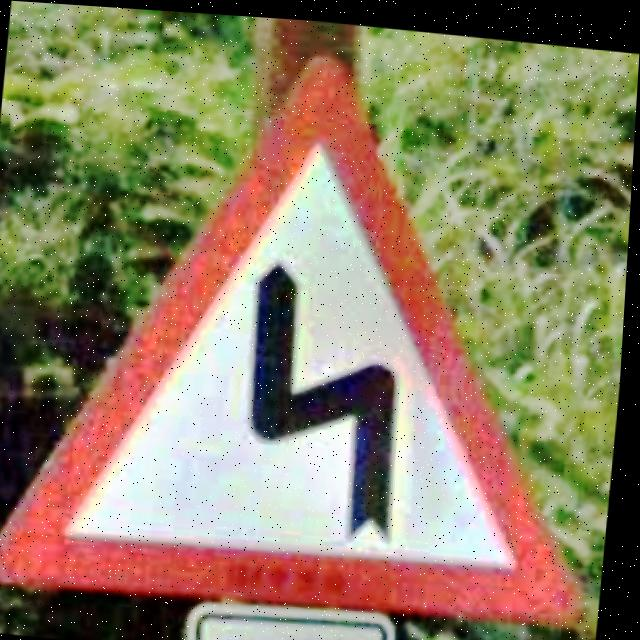doublebendleft: (0, 46, 587, 620)
